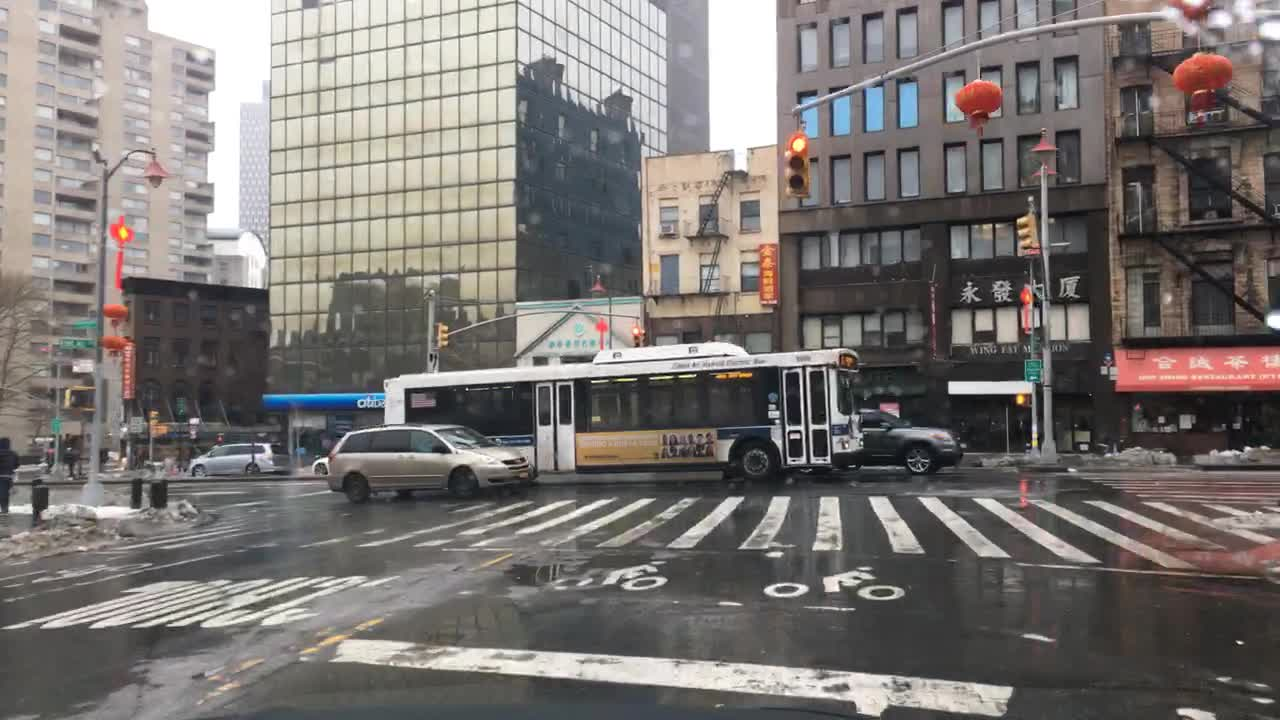bus: (382, 341, 867, 487)
car: (328, 421, 538, 507), (833, 408, 967, 477), (187, 441, 293, 479), (309, 456, 329, 481)
person: (0, 434, 22, 512), (62, 431, 82, 478), (41, 442, 57, 476)
traffic light: (784, 136, 813, 199), (1014, 212, 1041, 257), (59, 387, 88, 412), (432, 319, 449, 352), (152, 422, 169, 438), (632, 327, 642, 348), (1015, 393, 1028, 407)
traffic sign: (1021, 357, 1041, 386), (56, 337, 99, 349), (127, 414, 142, 434), (71, 318, 98, 328), (51, 417, 62, 437)
